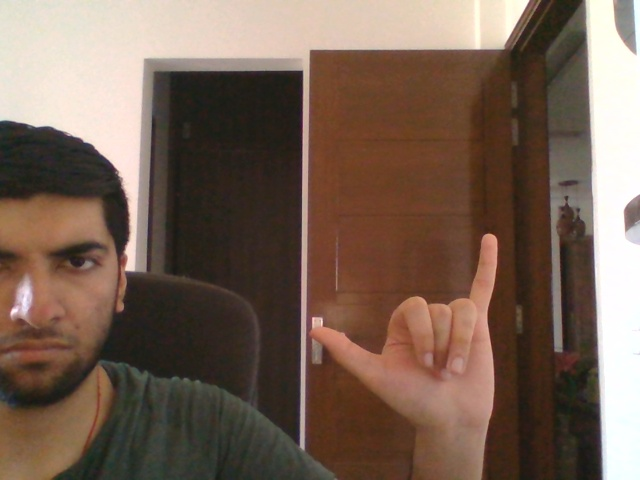LetterY: (307, 231, 502, 436)
